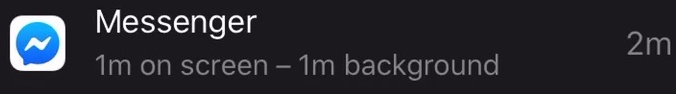name: (88, 4, 265, 43)
time: (296, 48, 342, 88), (91, 49, 138, 87)
